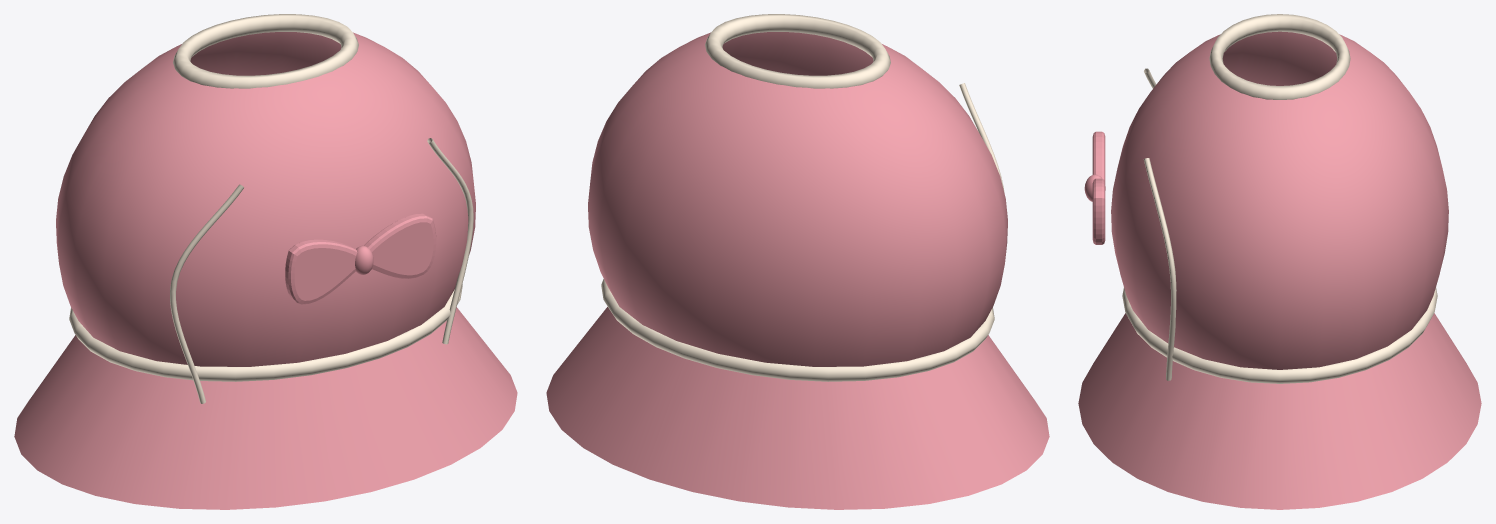
Rendered from dress_petal.glb.
3 views of the same model, side by side, from view 1: azimuth 30°, elevation 25°; view 2: azimuth 150°, elevation 25°; view 3: azimuth 270°, elevation 25° (orthographic). The views are drawn at different scales.
Visible parts, largest first — view 1: Vestido pétalo; view 2: Vestido pétalo; view 3: Vestido pétalo.
Boxes of the visible parts, box(x1,y1,x2,y2) form: Vestido pétalo: box(14, 14, 517, 509); Vestido pétalo: box(546, 14, 1049, 509); Vestido pétalo: box(1078, 14, 1481, 509).
Bounding box in the file's own units: 0.68 × 0.5234 × 0.544.
